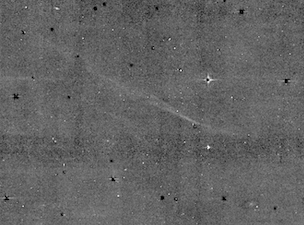Halpha: (62, 41, 272, 163)
